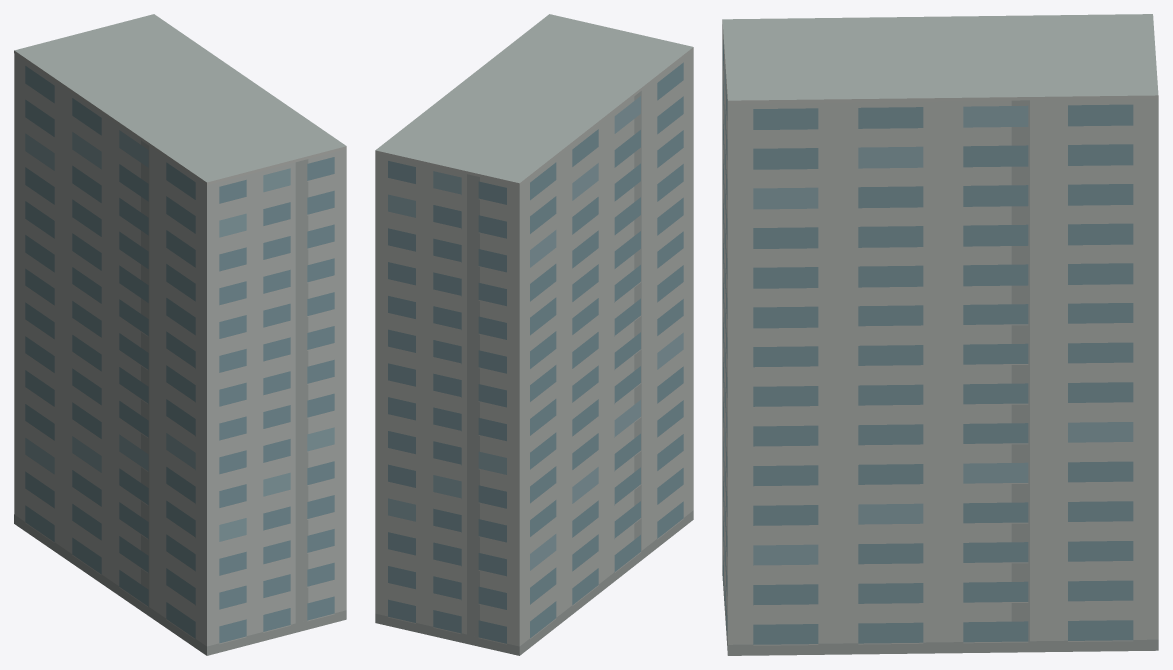
File: residential-984bad6f-5339-48f2-ba21-00b146eefbd1.glb
The picture shows the model from 3 angles, left to right: view 1: azimuth 30°, elevation 25°; view 2: azimuth 150°, elevation 25°; view 3: azimuth 270°, elevation 25°; orthographic projection. The views are drawn at different scales.
Parts seen in each view (by area): view 1: residential-984bad6f-5339-48f2-ba21-00b146eefbd1.tmp; view 2: residential-984bad6f-5339-48f2-ba21-00b146eefbd1.tmp; view 3: residential-984bad6f-5339-48f2-ba21-00b146eefbd1.tmp.
Boxes of the visible parts, x1,y1,x2,y2 form: residential-984bad6f-5339-48f2-ba21-00b146eefbd1.tmp: (14, 14, 346, 655); residential-984bad6f-5339-48f2-ba21-00b146eefbd1.tmp: (375, 14, 693, 655); residential-984bad6f-5339-48f2-ba21-00b146eefbd1.tmp: (722, 14, 1158, 655).
Size of the model in its own units: 13.39 by 40 by 28.48.
